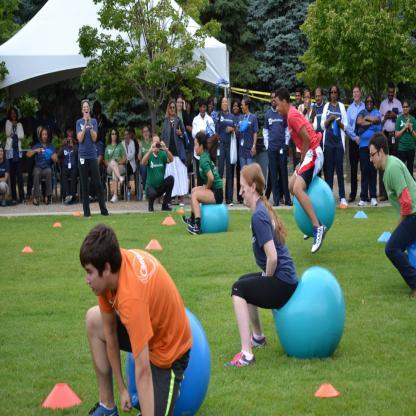Ball: (128, 304, 211, 416), (271, 268, 345, 358), (294, 174, 335, 237), (198, 200, 229, 233), (408, 244, 415, 268)
